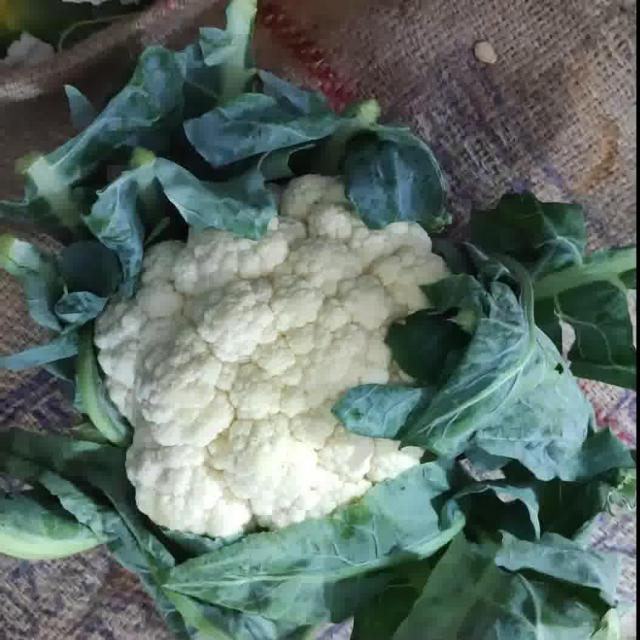Cauliflower: (91, 156, 465, 547)
